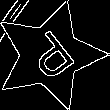P_SE: (18, 24, 81, 87)
